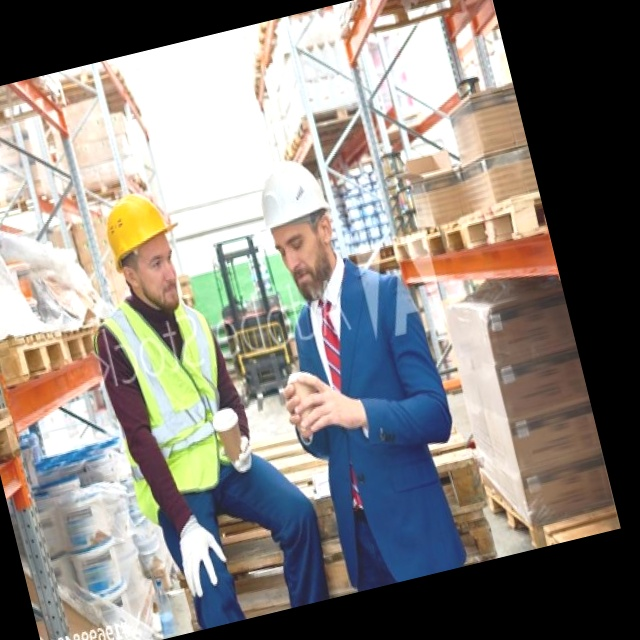Con_Casco: (249, 154, 344, 295)
Con_Chaleco: (93, 285, 253, 519)
